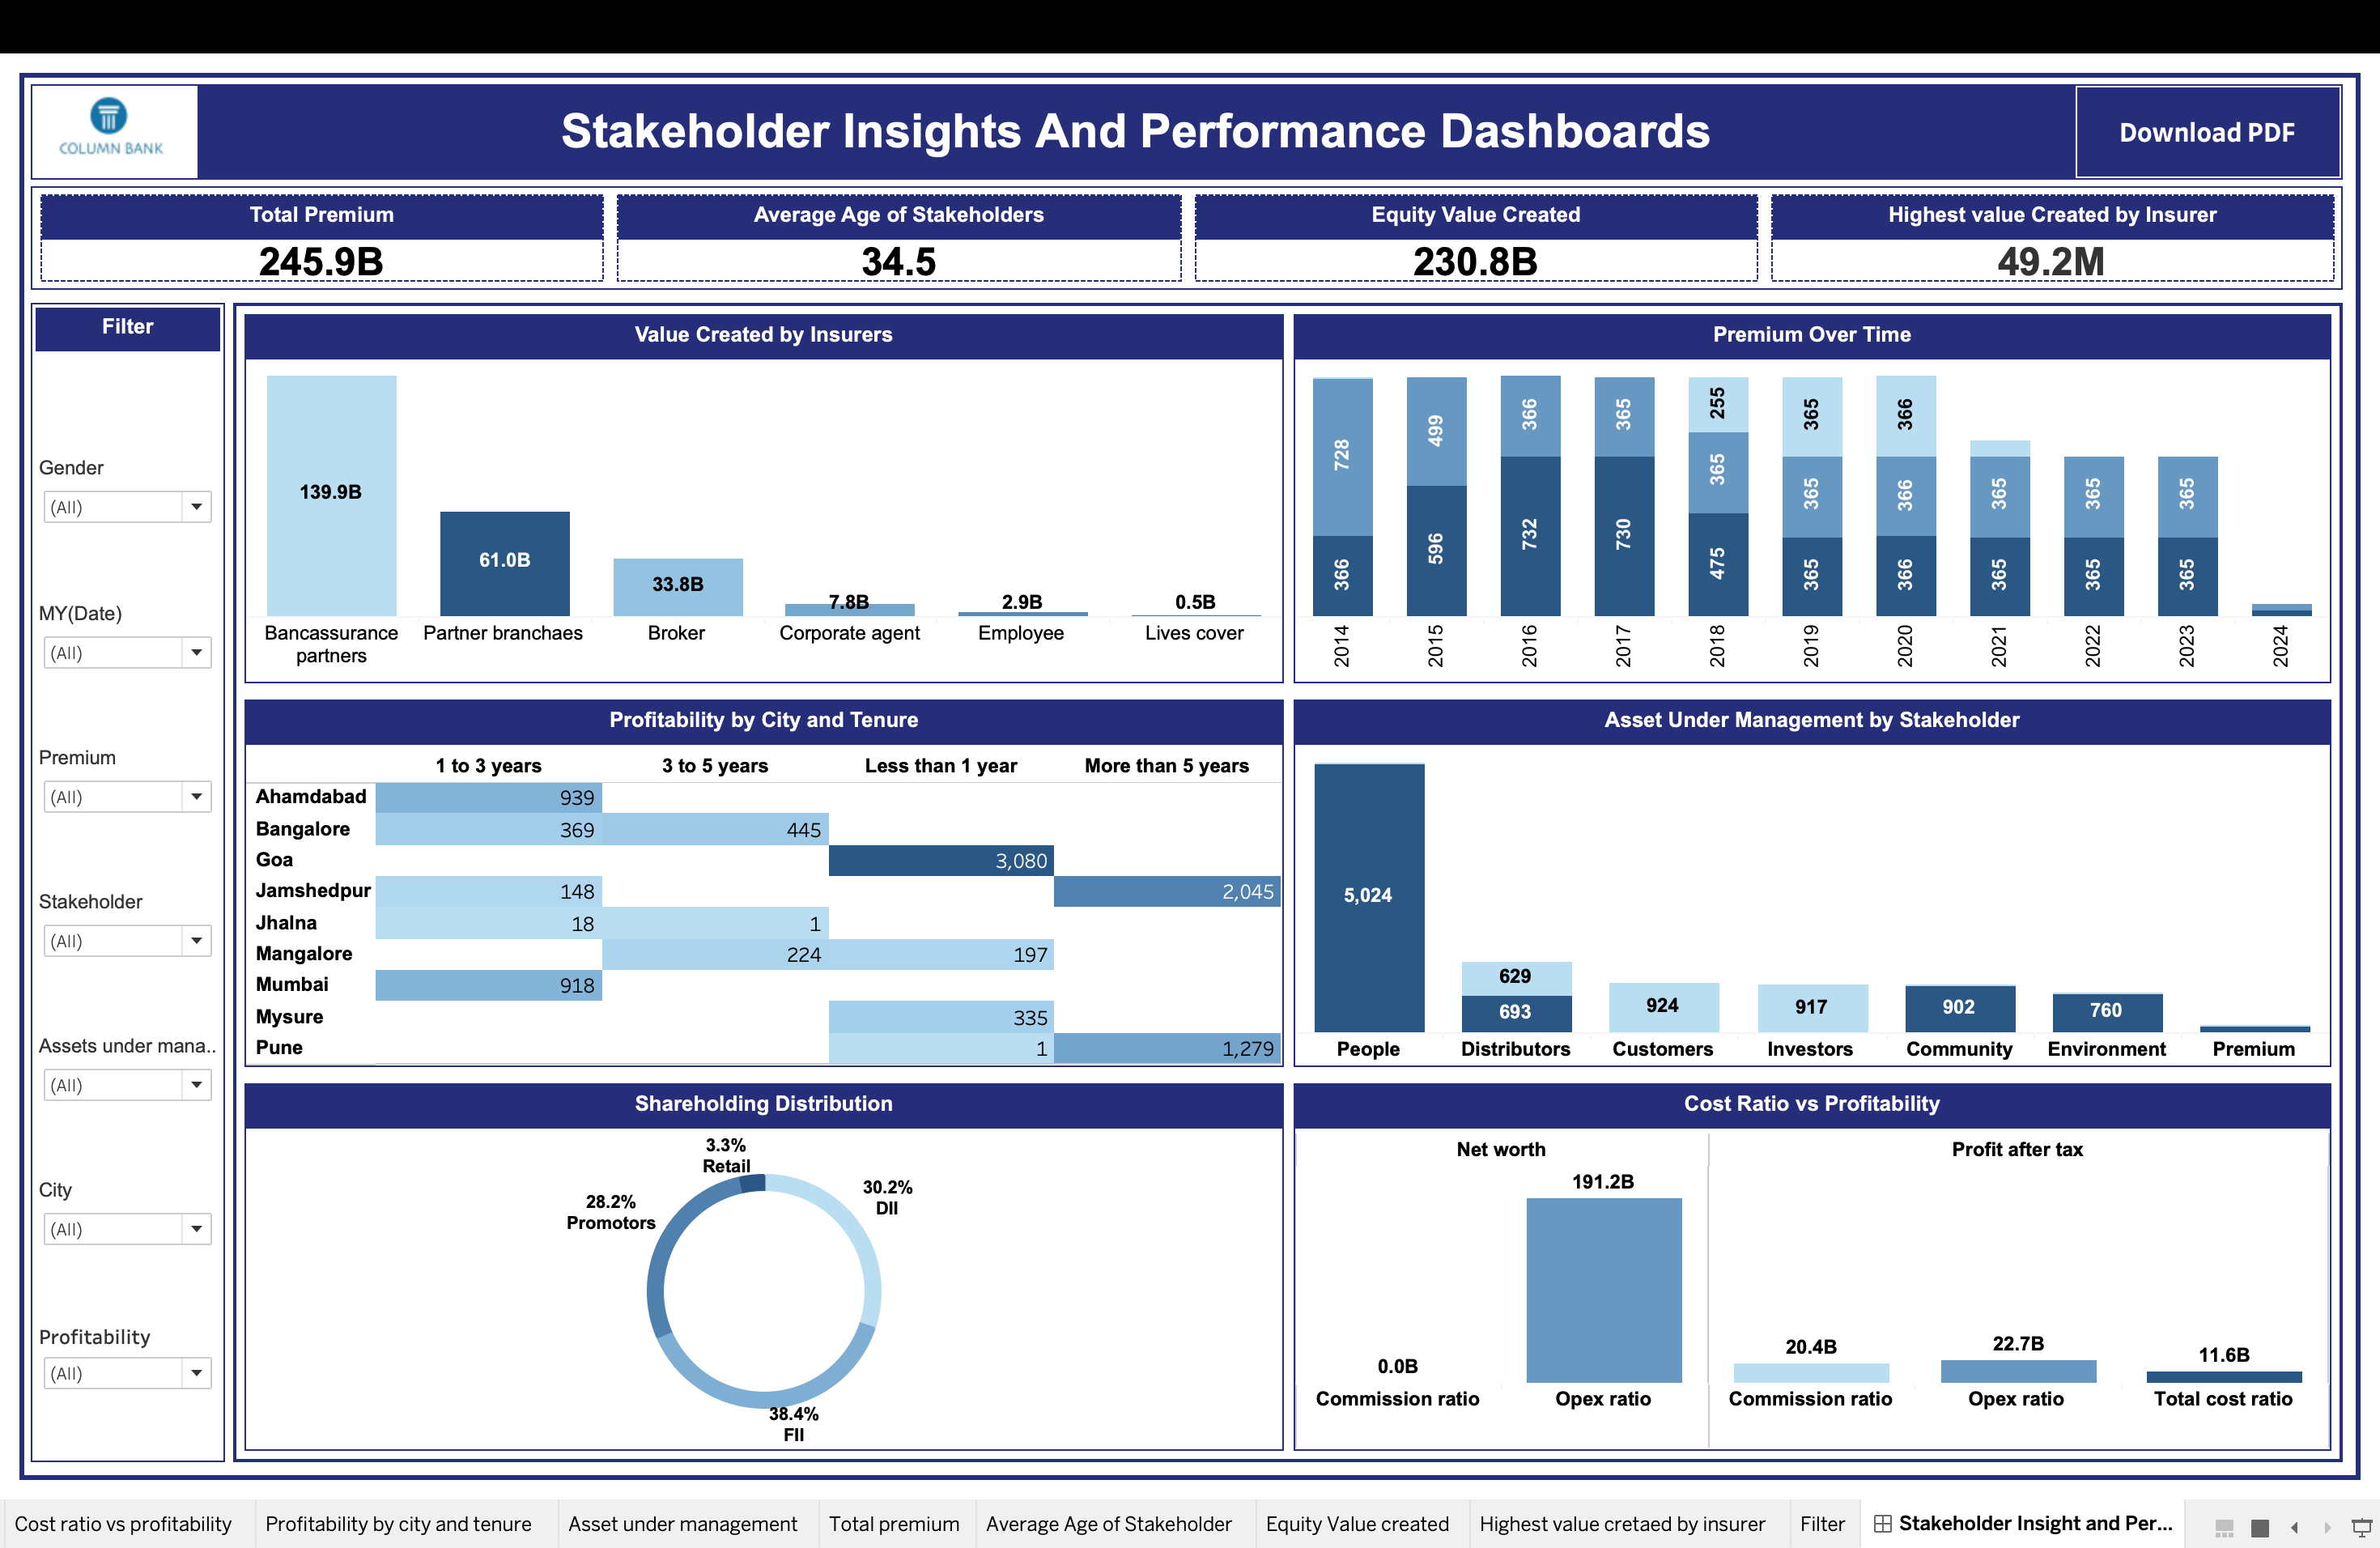

What the dashboard file says about the page in this screenshot:
{"tool":"tableau","page":{"name":"Stakeholder Insight and Performance","canvas":[1000,1000],"units":"permille","ordinal":0},"visuals":[{"type":"image","param":"Image/Bank logo.png","box":[13.8,24.1,70.6,68.6]},{"type":"text","box":[84.5,24.1,785.3,68.6]},{"type":"dashboard-object","box":[869.8,24.1,113.6,68.6]},{"type":"worksheet","title":"Total premium","mark":"Automatic","box":[13.8,99.9,242.4,74.6]},{"type":"worksheet","title":"Average Age of Stakeholder","mark":"Automatic","box":[256.2,99.9,242.4,74.6]},{"type":"worksheet","title":"Equity Value created","mark":"Automatic","box":[498.6,99.9,242.4,74.6]},{"type":"worksheet","title":"Highest value cretaed by insurer","mark":"Automatic","box":[741,99.9,242.4,74.6]},{"type":"worksheet","title":"Filter","mark":"Automatic","box":[13.8,186.5,81.7,98.7]},{"type":"worksheet","title":"Value Created by Insurer","mark":"Automatic","rows":["Value Created"],"cols":["Insurer"],"box":[102.5,190.1,439.8,256.3]},{"type":"worksheet","title":"Premium Over time","mark":"Bar","rows":["Premium 1"],"cols":["Date"],"box":[542.2,190.1,439.1,256.3]},{"type":"filter","title":"Filter","param":"[federated.1r9i1ei1103n9a10yrm000fmoe0f].[none:Gender:nk]","box":[13.8,285.2,81.7,98.7]},{"type":"filter","title":"Filter","param":"[federated.1r9i1ei1103n9a10yrm000fmoe0f].[my:Date:ok]","box":[13.8,383.9,81.7,98.7]},{"type":"worksheet","title":"Profitability by city and tenure","mark":"Square","rows":["City"],"cols":["Policy tenuer"],"box":[102.5,451.3,439.8,256.3]},{"type":"worksheet","title":"Asset under management","mark":"Automatic","rows":["Assets under management"],"cols":["Stakeholder"],"box":[542.2,451.3,439.1,256.3]},{"type":"filter","title":"Filter","param":"[federated.1r9i1ei1103n9a10yrm000fmoe0f].[none:Premium 1:nk]","box":[13.8,482.6,81.7,98.7]},{"type":"filter","title":"Filter","param":"[federated.1r9i1ei1103n9a10yrm000fmoe0f].[none:Stakeholder:nk]","box":[13.8,581.2,81.7,97.5]},{"type":"filter","title":"Filter","param":"[federated.1r9i1ei1103n9a10yrm000fmoe0f].[none:Assets under management:nk]","box":[13.8,678.7,81.7,97.5]},{"type":"worksheet","title":"Shareholding Distributions","mark":"Pie","rows":["Calculation_2490768773349376","Calculation_2490768773349376"],"box":[102.5,712.4,439.8,255.1]},{"type":"worksheet","title":"Cost ratio vs profitability","mark":"Automatic","rows":["Value Created"],"cols":["Profitability","Cost ratio"],"box":[542.2,712.4,439.1,255.1]},{"type":"filter","title":"Filter","param":"[federated.1r9i1ei1103n9a10yrm000fmoe0f].[none:City:nk]","box":[13.8,776.2,81.7,97.5]},{"type":"filter","title":"Filter","param":"[federated.1r9i1ei1103n9a10yrm000fmoe0f].[none:Profitability:nk]","box":[13.8,873.6,81.7,97.5]}]}

Visuals, with their boxes on the dashboard's canvas, which has no fixed pixel size, in thousandths of its width and height (x1, y1, x2, y2). These are canvas units, not pixel positions in the 2380x1548 screenshot, which may show the page scaled, cropped or inside an application window:
image: 14:24:84:93
text: 84:24:870:93
dashboard-object: 870:24:983:93
"Total premium" worksheet: 14:100:256:174
"Average Age of Stakeholder" worksheet: 256:100:499:174
"Equity Value created" worksheet: 499:100:741:174
"Highest value cretaed by insurer" worksheet: 741:100:983:174
"Filter" worksheet: 14:186:96:285
"Value Created by Insurer" worksheet: 102:190:542:446
"Premium Over time" worksheet (Bar marks): 542:190:981:446
"Filter" filter: 14:285:96:384
"Filter" filter: 14:384:96:483
"Profitability by city and tenure" worksheet (Square marks): 102:451:542:708
"Asset under management" worksheet: 542:451:981:708
"Filter" filter: 14:483:96:581
"Filter" filter: 14:581:96:679
"Filter" filter: 14:679:96:776
"Shareholding Distributions" worksheet (Pie marks): 102:712:542:968
"Cost ratio vs profitability" worksheet: 542:712:981:968
"Filter" filter: 14:776:96:874
"Filter" filter: 14:874:96:971
